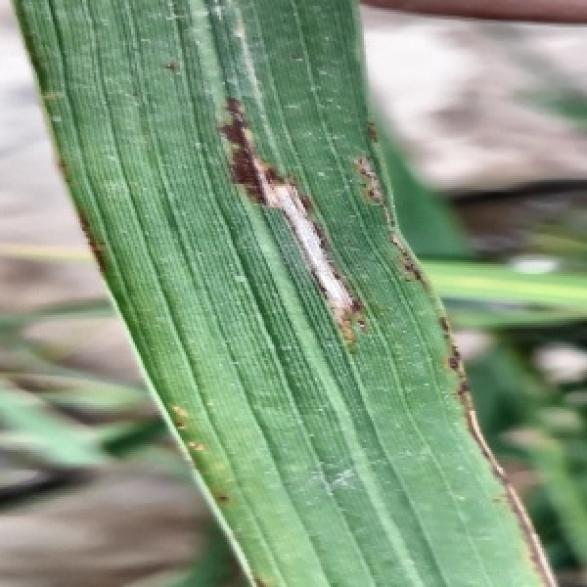Leaf_smut: (190, 59, 464, 372)
